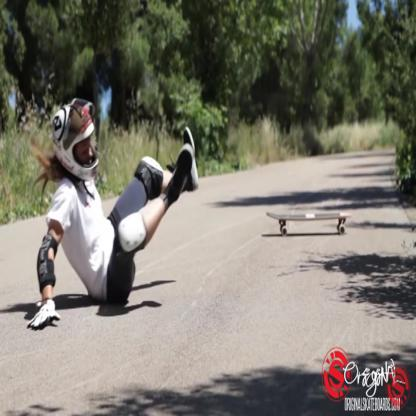Fall_Down: (27, 103, 198, 332)
